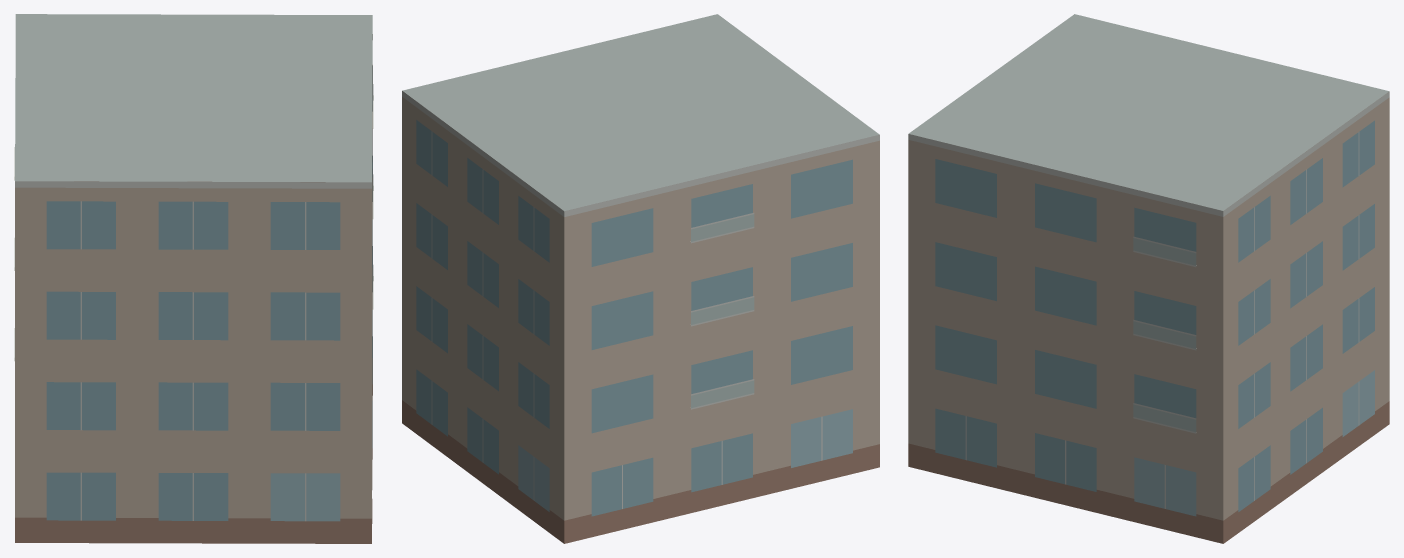
File: survey-upis-32914187.glb
The picture shows the model from 3 angles, left to right: view 1: azimuth 30°, elevation 25°; view 2: azimuth 150°, elevation 25°; view 3: azimuth 270°, elevation 25°; orthographic projection. The views are drawn at different scales.
Visible parts, largest first — view 1: survey-upis-32914187.tmp; view 2: survey-upis-32914187.tmp; view 3: survey-upis-32914187.tmp.
Part boxes in pixels (box(x1,y1,x2,y2)): survey-upis-32914187.tmp: box(14, 14, 373, 543); survey-upis-32914187.tmp: box(402, 14, 879, 543); survey-upis-32914187.tmp: box(908, 14, 1389, 543).
Bounding box in the file's own units: 17.33 × 13.65 × 17.89.
